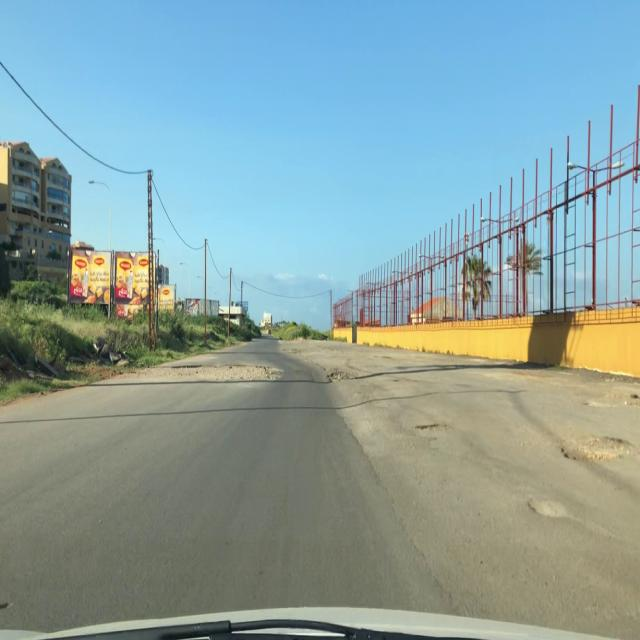Pothole: (559, 431, 634, 468), (166, 363, 286, 382), (527, 490, 567, 526), (414, 418, 456, 439), (326, 368, 356, 388)
